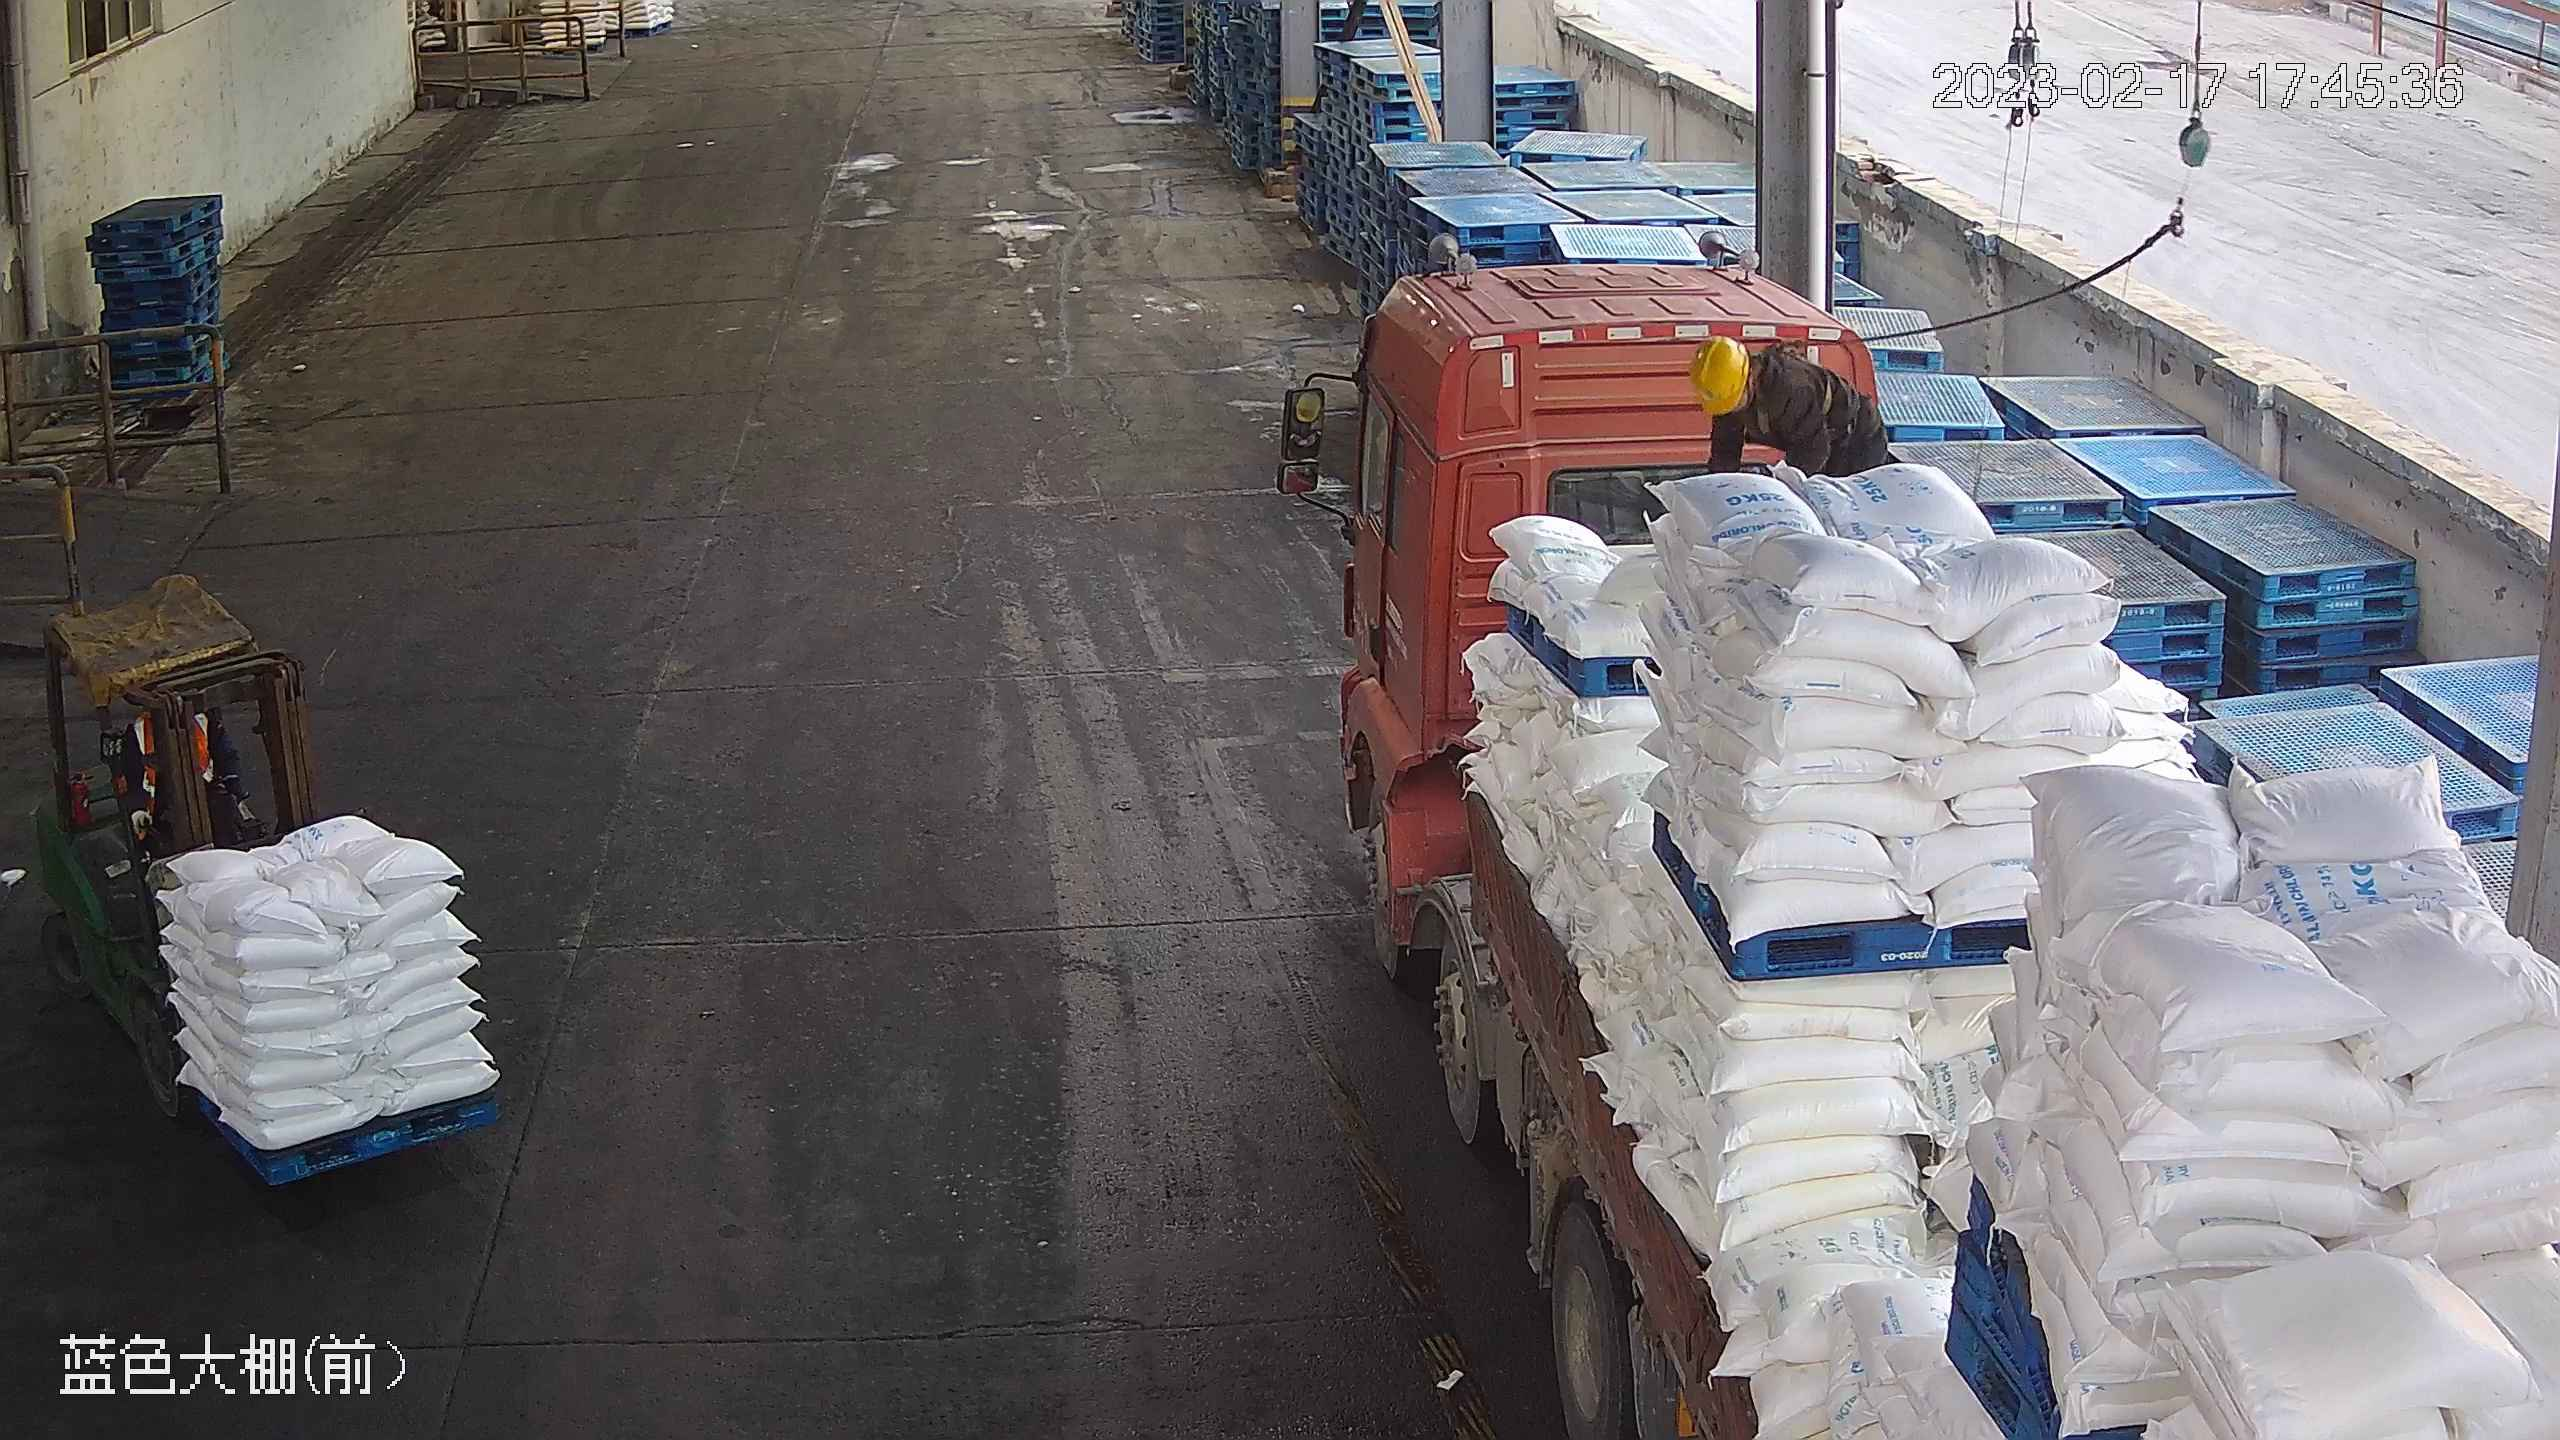belt: (1748, 337, 1842, 439)
head: (1690, 334, 1816, 428)
helmet: (1689, 333, 1752, 414)
people: (1689, 334, 1888, 483)
truck: (1331, 257, 2560, 1440)
